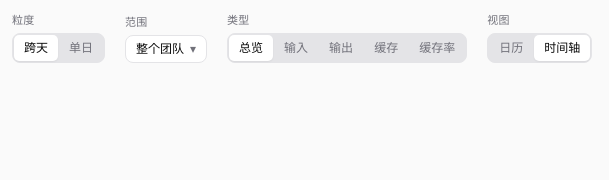
Test: TokenStatsControls —— 控制条 state 管理 › 范围下拉打开 → 列表含「整个团队」+ 全 member（leader 标「队长」）
The width and height of the screenshot is (609, 180).
Click the button "整个团队 ▾": (166, 48) 125,34 -> 207,62
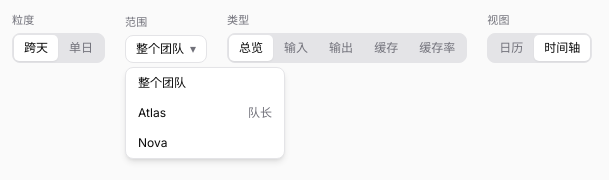
Now the button "Nova" is shown, box 126,128 -> 284,158
Now the button "Atlas 队长" is shown, box 126,98 -> 284,128
Now the number of buttons "整个团队 ▾" is 2, box 125,34 -> 207,62; 126,68 -> 284,98
